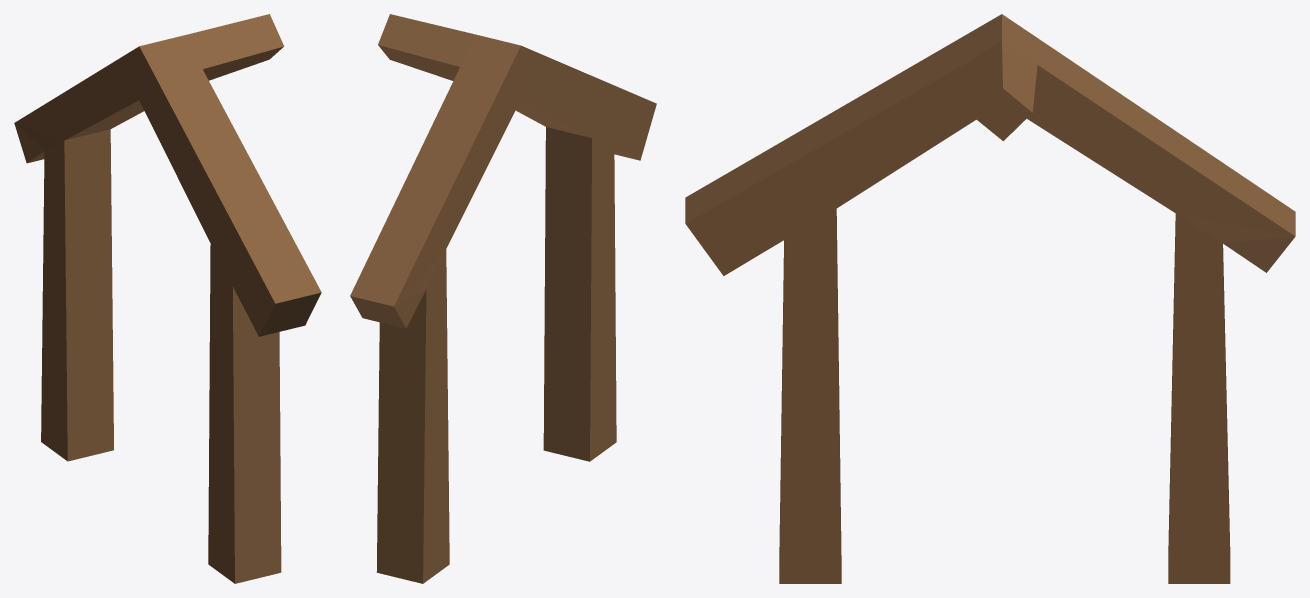
Rendered from MineEntrance02.fbx.
3 renders of one model, left to right at view 1: azimuth 30°, elevation 25°; view 2: azimuth 150°, elevation 25°; view 3: azimuth 270°, elevation 25°, orthographic. The views are drawn at different scales.
Parts seen in each view (by area): view 1: MineEntrance02; view 2: MineEntrance02; view 3: MineEntrance02.
Boxes of the visible parts, x1=… form: MineEntrance02: x1=14, y1=14, x2=321, y2=583; MineEntrance02: x1=350, y1=14, x2=656, y2=583; MineEntrance02: x1=685, y1=14, x2=1295, y2=583.
Bounding box in the file's own units: 346 × 340 × 99.57.
